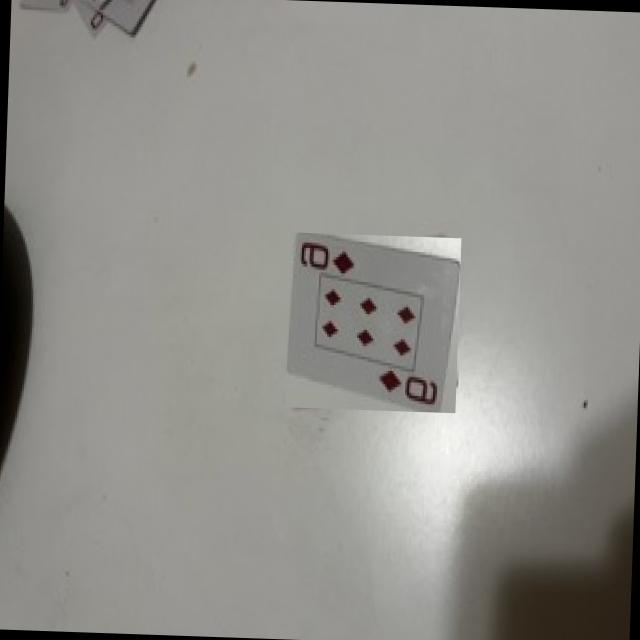6 of diamonds: (288, 232, 460, 411)
